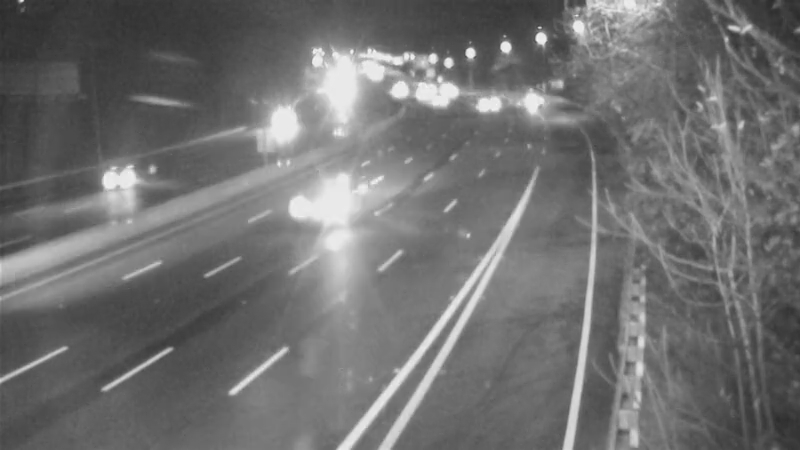vehicle: (272, 167, 352, 247), (87, 141, 167, 221), (504, 73, 554, 123), (413, 76, 463, 126), (459, 75, 509, 125), (258, 101, 308, 151)
